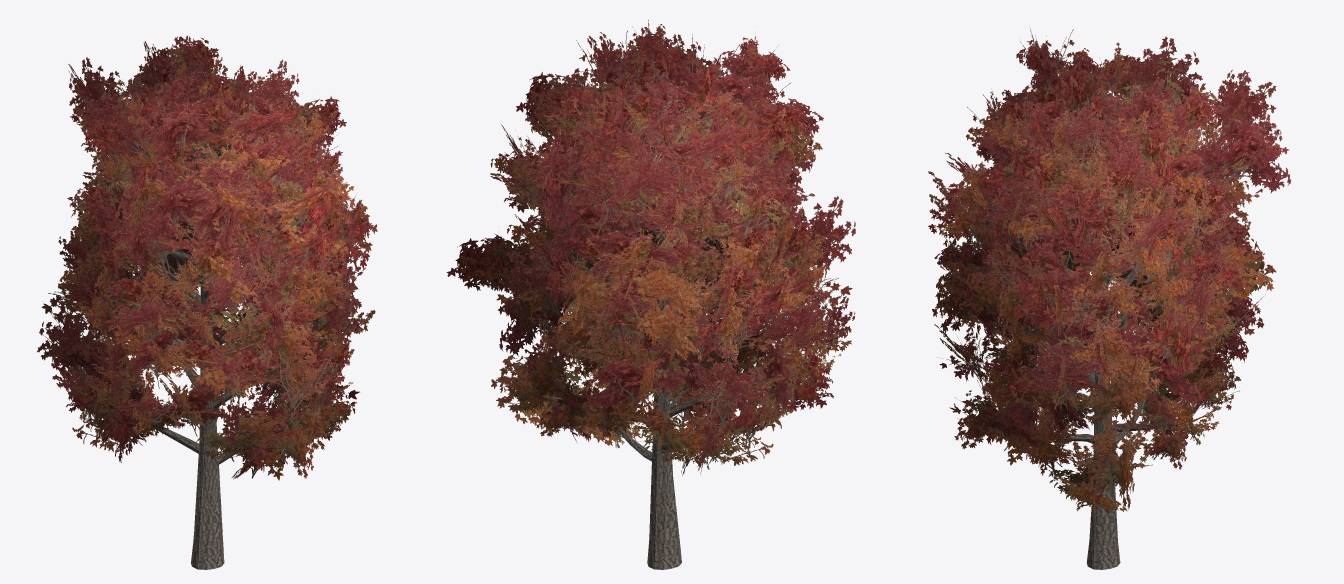
Rendered from liquidambar.glb.
3 views of the same model, side by side, from view 1: azimuth 30°, elevation 25°; view 2: azimuth 150°, elevation 25°; view 3: azimuth 270°, elevation 25° (orthographic). The views are drawn at different scales.
Parts seen in each view (by area): view 1: copa, copa_medio, tronco_medio, tronco; view 2: copa, copa_medio, tronco_medio, tronco; view 3: copa, copa_medio, tronco_medio, tronco.
Part boxes in pixels (bbox=[...]): copa: bbox=[40, 36, 374, 478]; copa_medio: bbox=[37, 36, 377, 480]; tronco_medio: bbox=[135, 133, 281, 569]; tronco: bbox=[109, 72, 331, 569]; copa: bbox=[460, 19, 855, 475]; copa_medio: bbox=[446, 30, 855, 474]; tronco_medio: bbox=[579, 118, 726, 569]; tronco: bbox=[539, 68, 803, 569]; copa: bbox=[928, 35, 1282, 511]; copa_medio: bbox=[928, 26, 1290, 517]; tronco_medio: bbox=[1064, 196, 1170, 569]; tronco: bbox=[975, 76, 1222, 569].
Size of the model in its own units: 12.24 by 17.68 by 13.19.
2 materials, 2 textured.
